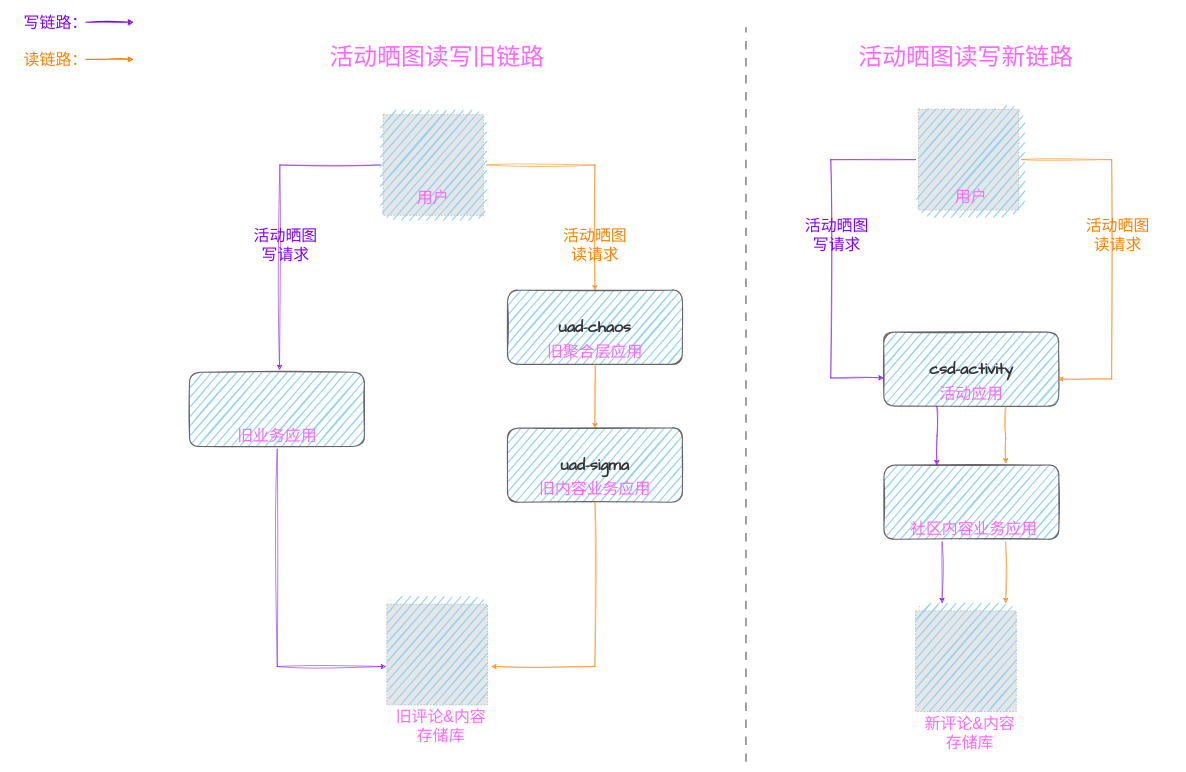
Some shapes in this 1186 by 772 pixel diagram are drawn without their labels. Grey dashed boxes stand in for pictures. The shapes that lost their labels are listed below. From the top down, each one's box as (x1, y1, x2, y2) in pixels, then its label:
(189, 372, 365, 447): uad-greatwall-api
(883, 464, 1059, 540): csd-content
